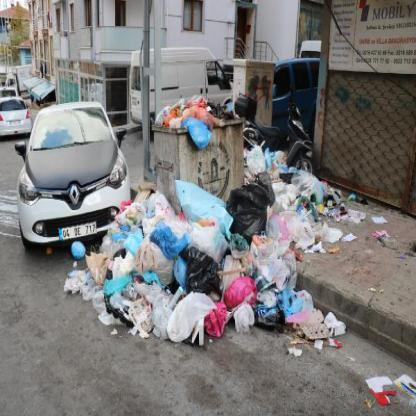Garbage: (269, 283, 369, 360), (72, 265, 149, 356), (173, 280, 252, 348), (127, 202, 233, 252), (228, 172, 278, 252), (308, 185, 368, 248), (355, 367, 416, 416), (162, 96, 236, 126), (116, 210, 148, 260), (136, 238, 173, 278), (156, 226, 191, 260), (182, 110, 213, 148), (86, 250, 112, 292), (224, 276, 260, 306), (248, 138, 269, 176), (340, 192, 358, 228)
